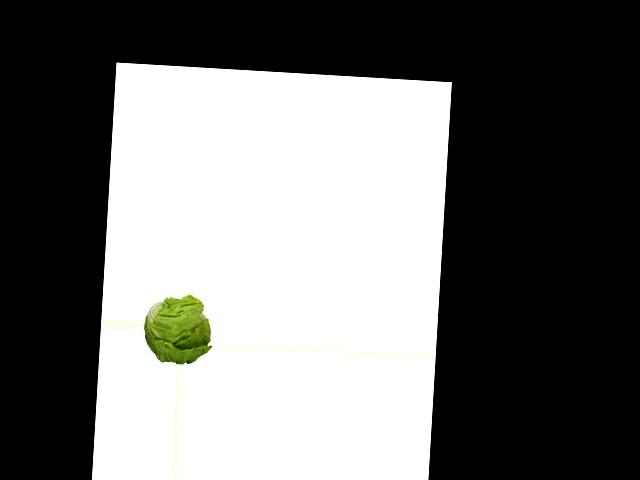lettuce: (140, 295, 213, 365)
